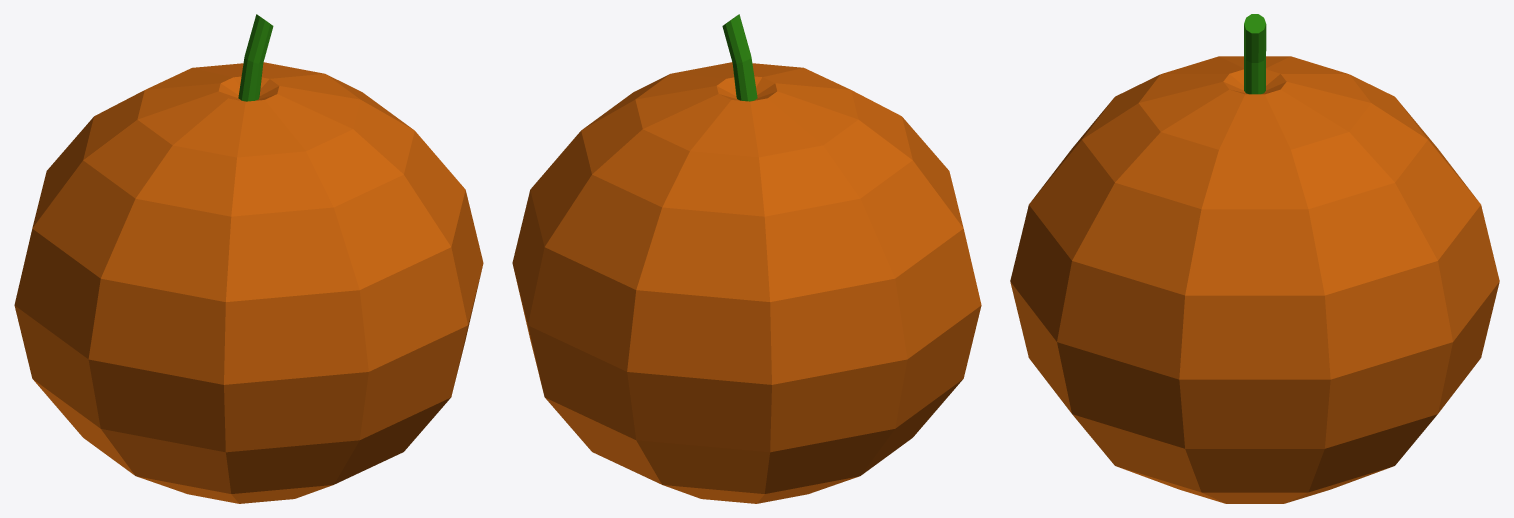
Rendered from Ma_Fruit_Orange.fbx.
3 renders of one model, left to right at view 1: azimuth 30°, elevation 25°; view 2: azimuth 150°, elevation 25°; view 3: azimuth 270°, elevation 25°, orthographic. The views are drawn at different scales.
Parts seen in each view (by area): view 1: Ma_Fruit_Orange; view 2: Ma_Fruit_Orange; view 3: Ma_Fruit_Orange.
Boxes of the visible parts, x1=… form: Ma_Fruit_Orange: x1=14, y1=14, x2=483, y2=503; Ma_Fruit_Orange: x1=512, y1=14, x2=981, y2=503; Ma_Fruit_Orange: x1=1010, y1=14, x2=1499, y2=503.
Bounding box in the file's own units: 79.77 × 83.87 × 89.27.
